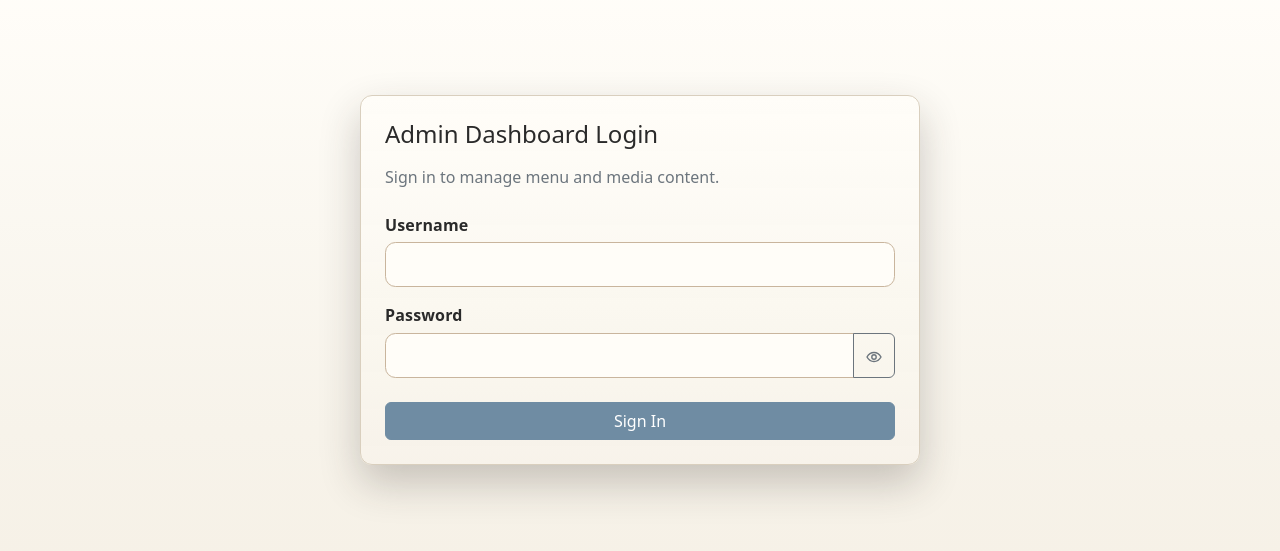
it: AdminLogin › shows an error for invalid credentials
This screenshot has width=1280, height=551.
Check: the button "Sign In" is shown, box [385,402,895,440]
Type "admin" into the field labelled "Username".
click(640, 265); type("admin")  # box [385,242,895,287]
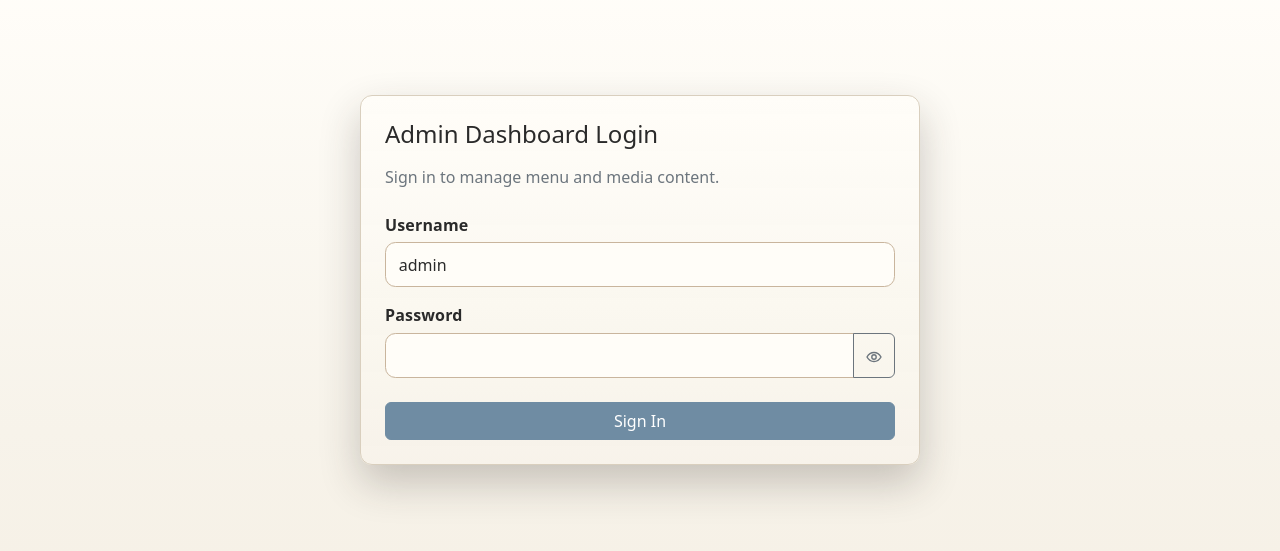
Type "wrong" into the password field labelled "Password".
click(620, 356); type("wrong")  # box [385,333,854,378]
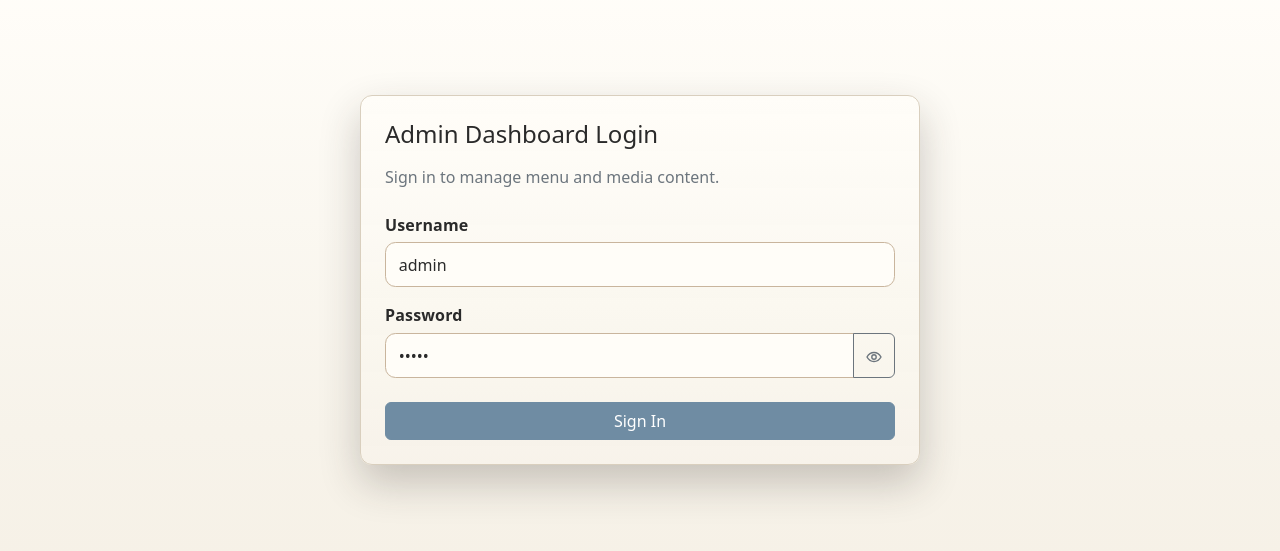
Click the button "Sign In".
click(640, 421)  # box [385,402,895,440]
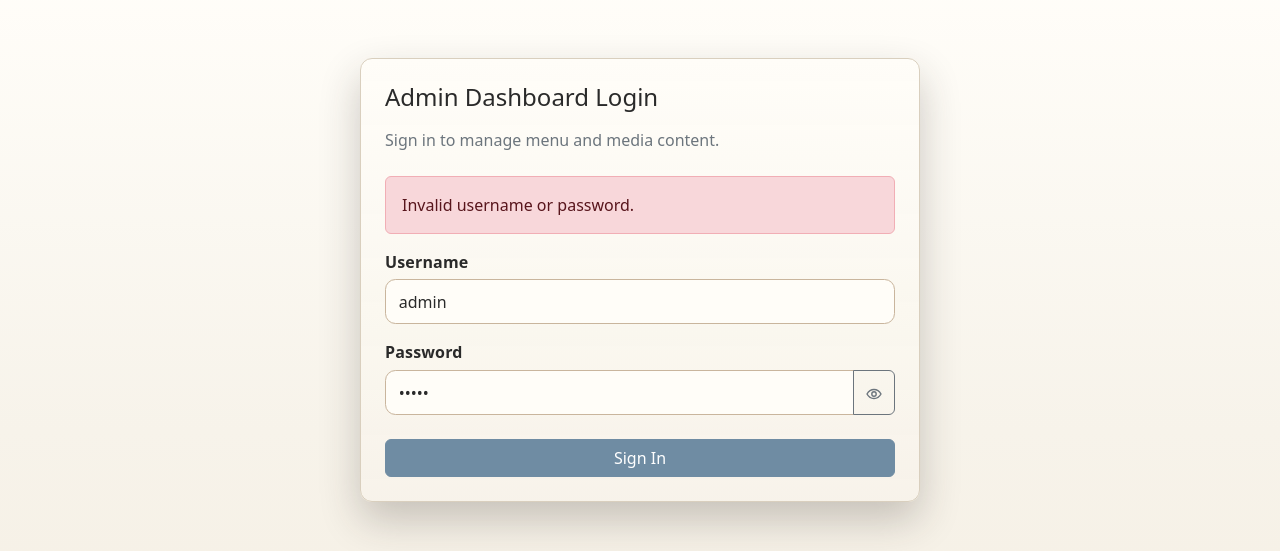
Check: the text "Invalid username or password." is shown, box [385,176,895,234]
